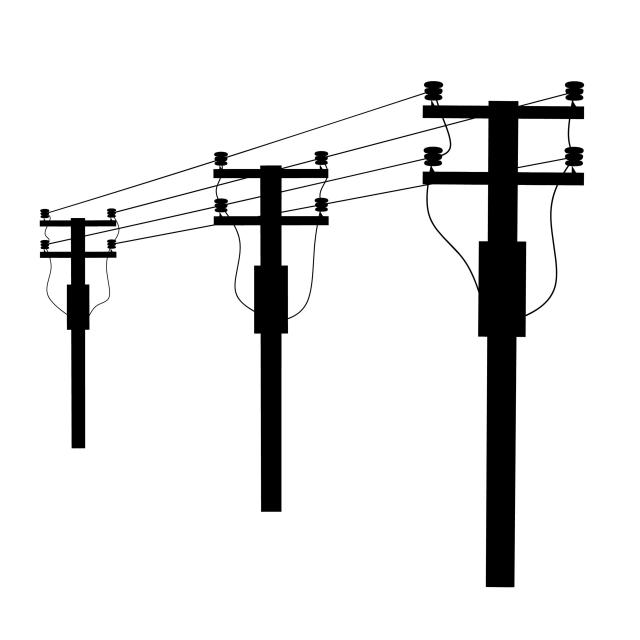light_pole: (415, 76, 605, 367), (209, 147, 341, 345), (34, 206, 124, 343)
